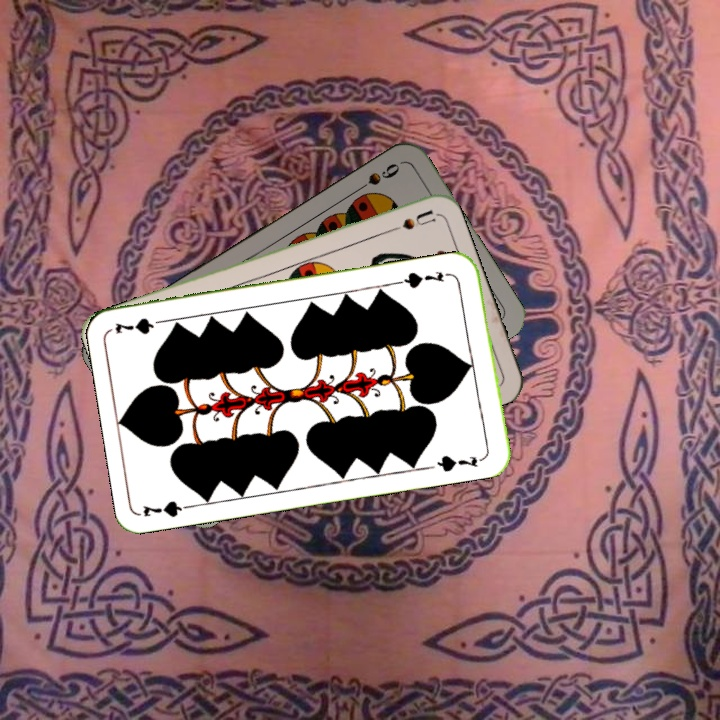G7: (139, 496, 199, 520), (397, 267, 446, 291)
S9: (350, 159, 403, 196)
SU: (378, 205, 437, 237)
